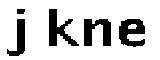e: (116, 16, 147, 51)
j: (5, 6, 29, 58)
k: (43, 4, 81, 51)
n: (83, 16, 114, 50)
